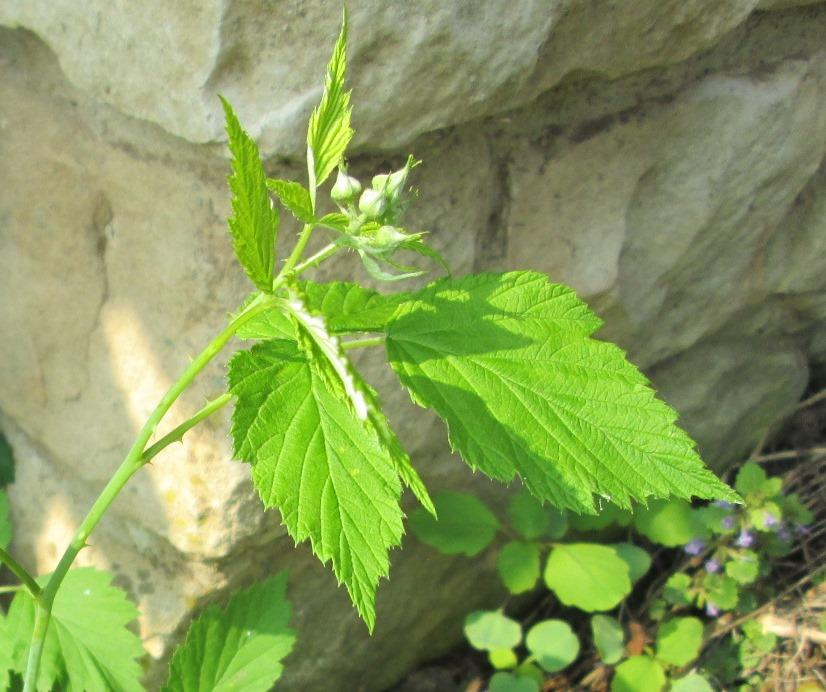Raspberry leaf: (385, 268, 751, 518), (225, 331, 413, 638)
